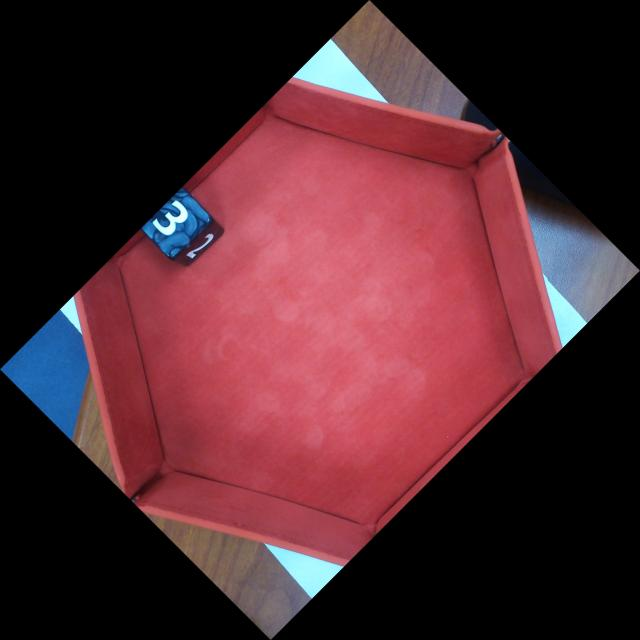dice: (140, 186, 214, 260)
